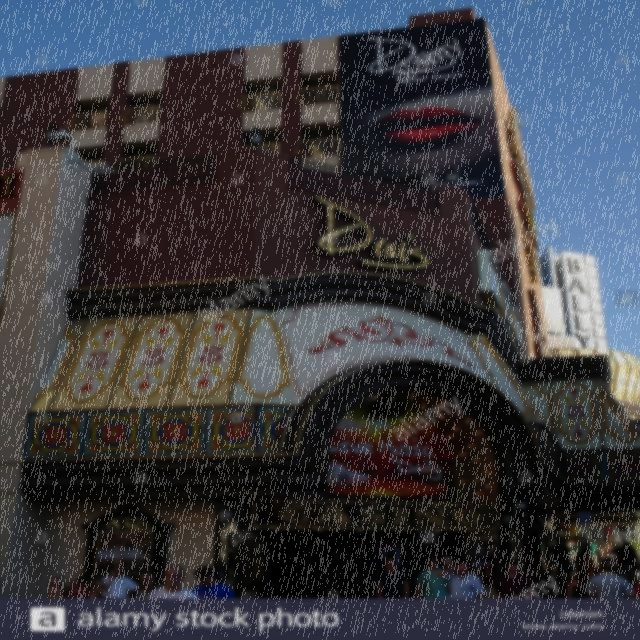pessoa: (584, 559, 636, 599), (145, 564, 200, 600), (492, 558, 540, 599), (434, 562, 486, 598), (414, 556, 454, 600), (188, 565, 236, 599), (375, 557, 410, 599), (99, 564, 140, 599), (549, 536, 575, 588), (564, 568, 598, 600), (126, 572, 162, 598), (78, 577, 112, 599), (46, 575, 72, 599), (616, 536, 640, 560), (569, 538, 581, 575), (586, 539, 599, 570), (595, 542, 616, 560), (441, 555, 456, 573)
